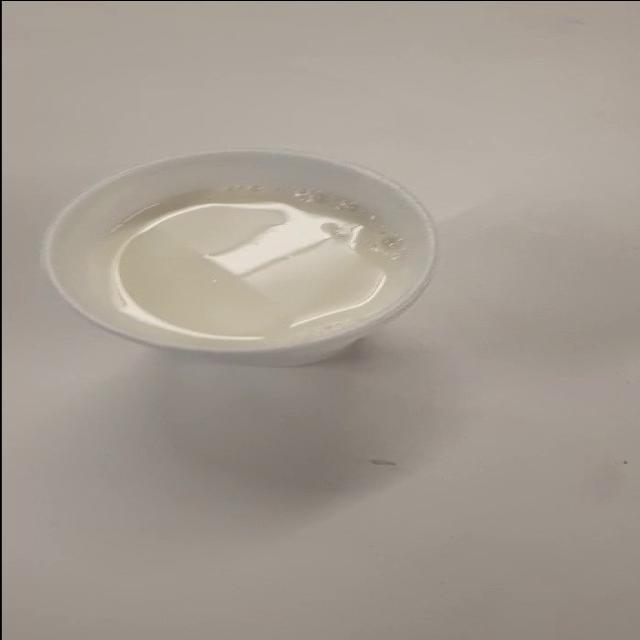Milk: (39, 136, 457, 393)
